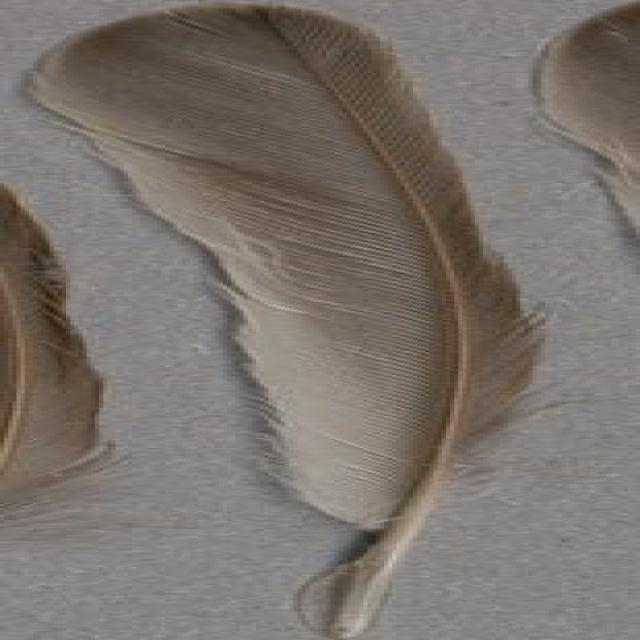feather: (12, 0, 566, 640)
